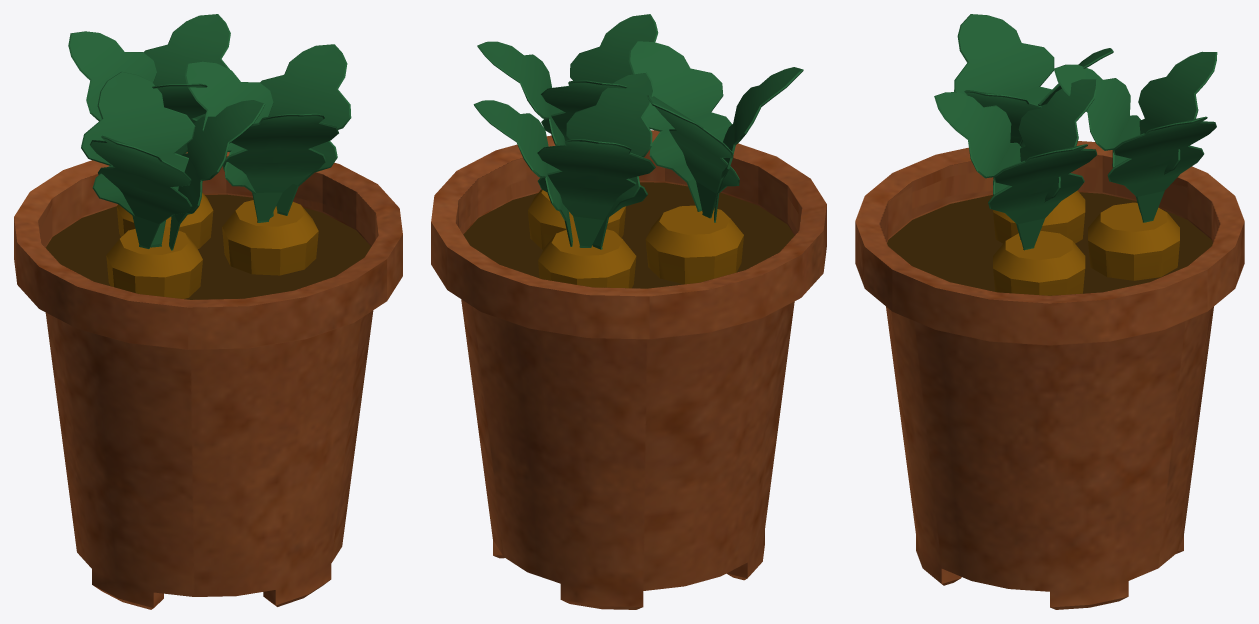
The model's file is silo.fbx.
3 views of the same model, side by side, from view 1: azimuth 30°, elevation 25°; view 2: azimuth 150°, elevation 25°; view 3: azimuth 270°, elevation 25° (orthographic). The views are drawn at different scales.
Parts seen in each view (by area): view 1: pCylinder661, pCube4895, pCube4891, pCube4889, pCylinder659, pCube4893, pCylinder658, pCube4894, pCube4896, pCube4892, pCube4897, pCylinder660 (+1 smaller); view 2: pCylinder661, pCube4897, pCube4894, pCylinder658, pCube4890, pCylinder660, pCube4895, pCube4891, pCube4896, pCube4889, pCube4893, pCube4892 (+1 smaller); view 3: pCylinder661, pCube4893, pCylinder660, pCube4889, pCube4896, pCylinder659, pCube4891, pCube4897, pCube4892, pCube4890, pCylinder658, pCube4894.
Boxes of the visible parts, x1,y1,x2,y2 form: pCylinder661: (14, 152, 402, 609); pCube4895: (81, 71, 195, 247); pCube4891: (222, 113, 338, 222); pCube4889: (260, 44, 351, 215); pCylinder659: (222, 200, 318, 275); pCube4893: (90, 135, 192, 248); pCylinder658: (106, 226, 202, 298); pCube4894: (169, 100, 265, 250); pCube4896: (143, 14, 230, 154); pCube4892: (185, 61, 273, 217); pCube4897: (68, 31, 156, 120); pCylinder660: (116, 192, 213, 248); pCylinder661: (431, 130, 826, 609); pCube4897: (537, 139, 655, 247); pCube4894: (628, 41, 732, 211); pCylinder658: (645, 205, 743, 284); pCube4890: (566, 72, 654, 249); pCylinder660: (538, 227, 636, 288); pCube4895: (647, 95, 739, 218); pCube4891: (570, 14, 658, 83); pCube4896: (473, 100, 572, 246); pCube4889: (477, 41, 564, 145); pCube4893: (714, 67, 803, 222); pCube4892: (541, 80, 627, 140); pCylinder661: (855, 141, 1244, 609); pCube4893: (954, 14, 1054, 104); pCylinder660: (1088, 202, 1179, 280); pCube4889: (988, 144, 1097, 250); pCube4896: (1107, 116, 1216, 222); pCylinder659: (993, 230, 1085, 295); pCube4891: (934, 92, 1021, 239); pCube4897: (1138, 51, 1217, 174); pCube4892: (1018, 79, 1097, 202); pCube4890: (1054, 64, 1140, 212); pCylinder658: (993, 190, 1085, 243); pCube4894: (964, 90, 1041, 147).
Bounding box in the file's own units: 77.62 × 105 × 77.62.
4 materials, 1 textured.
